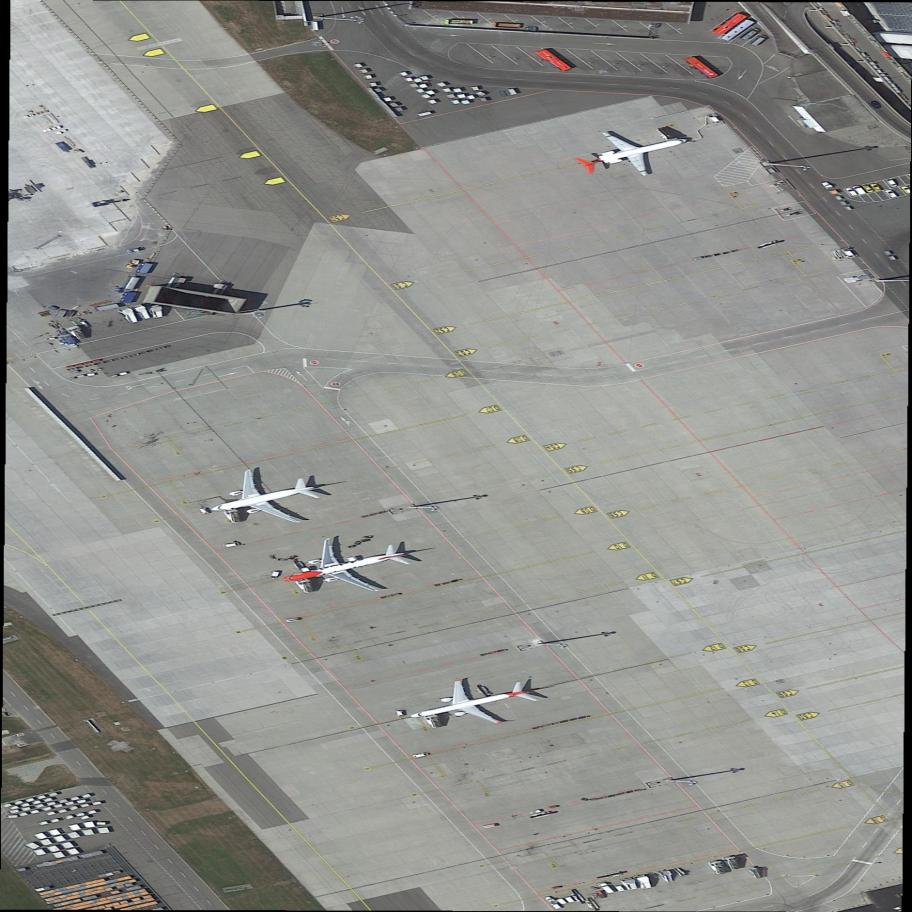large-vehicle: (594, 875, 616, 899)
plane: (366, 640, 587, 768), (245, 514, 450, 627), (173, 448, 352, 549), (546, 105, 722, 198)
small-vehicle: (881, 185, 900, 202), (851, 184, 866, 198), (270, 567, 283, 581), (220, 541, 242, 549), (845, 185, 858, 198), (885, 177, 899, 189), (868, 182, 882, 193)
